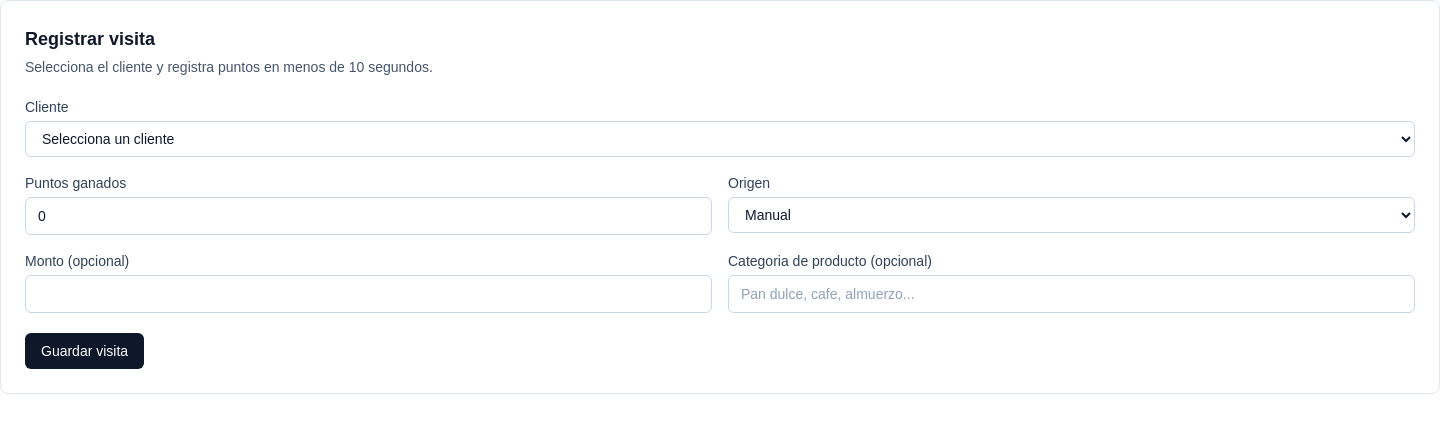
Test: VisitForm integration › validation and error display › shows validation error for invalid amount
Click the button "Guardar visita" at coordinates (85, 351), box [25,333,144,369]
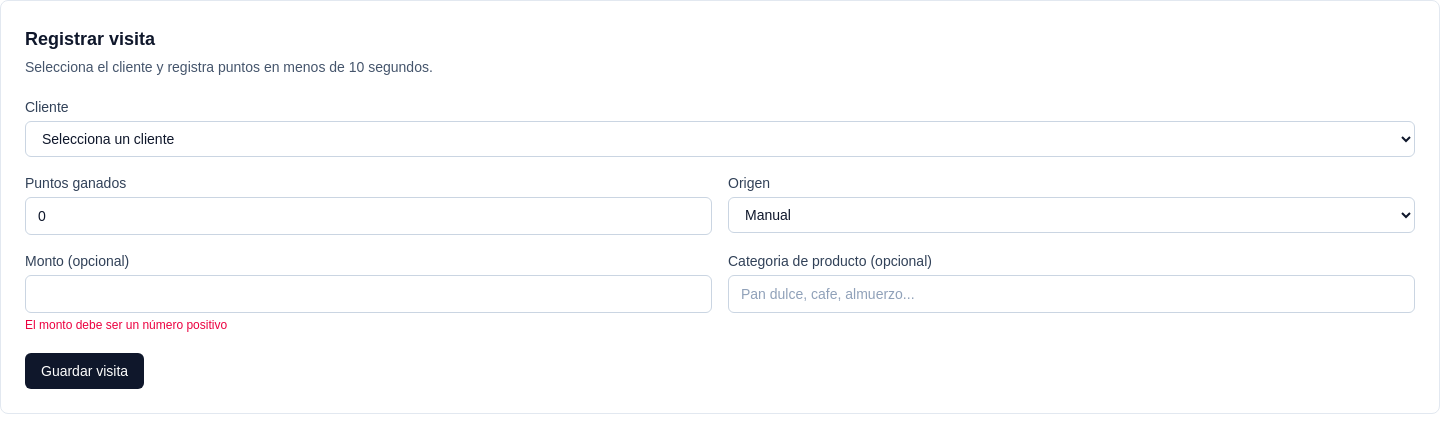
Expected: the text "El monto debe ser un número positivo" is shown, [25,318,227,332]
